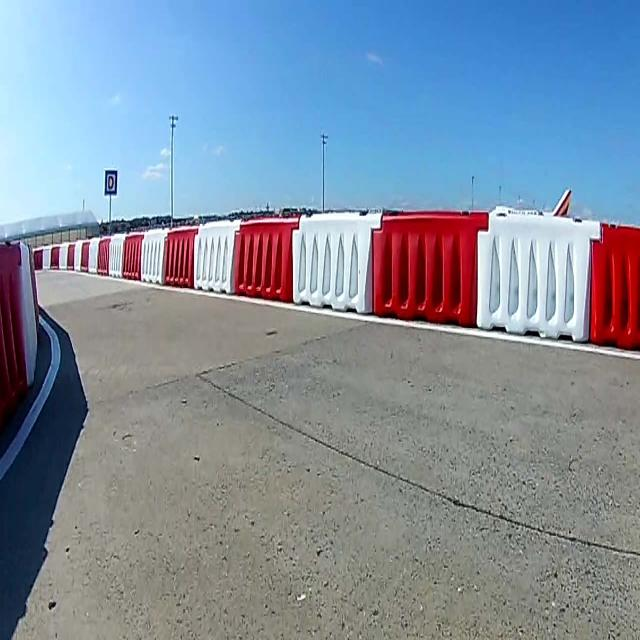durak: (104, 170, 118, 196)
